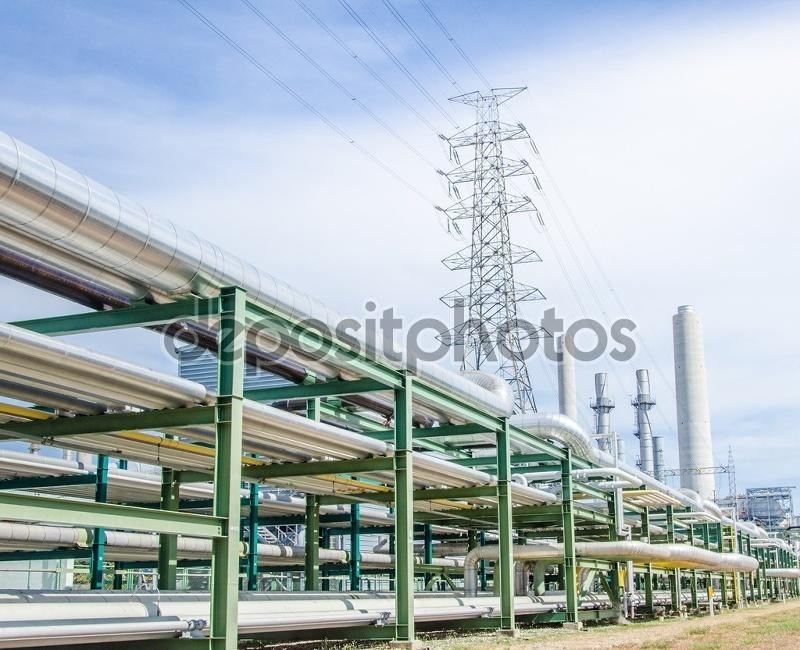power_tower: (407, 66, 582, 402)
